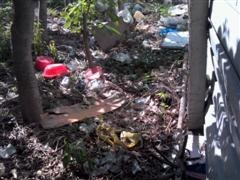bowl: (41, 61, 69, 77), (33, 53, 55, 70)
